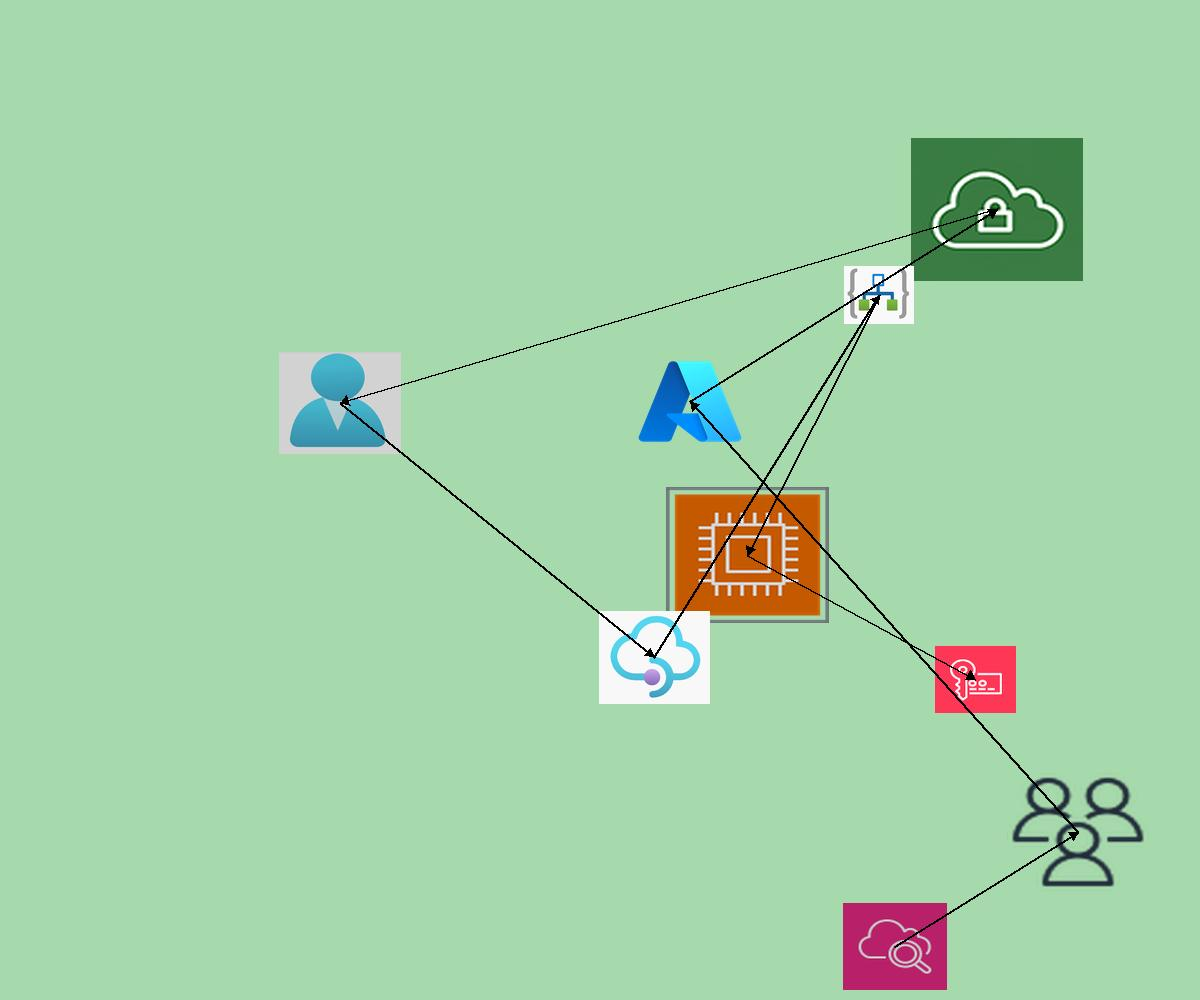AWS-Category_Compute: (666, 487, 829, 623)
AWS-CloudWatch: (843, 903, 947, 990)
AWS-Key-Management-Service: (935, 646, 1016, 713)
AWS-Private_vpc: (911, 138, 1083, 281)
AWS-Res_Users: (1007, 773, 1149, 891)
Azure_api_gateway: (599, 611, 710, 704)
Azure_integration-204-Logic-Apps: (844, 266, 914, 324)
Azure_services: (634, 355, 746, 448)
Azure_users: (279, 352, 401, 454)
